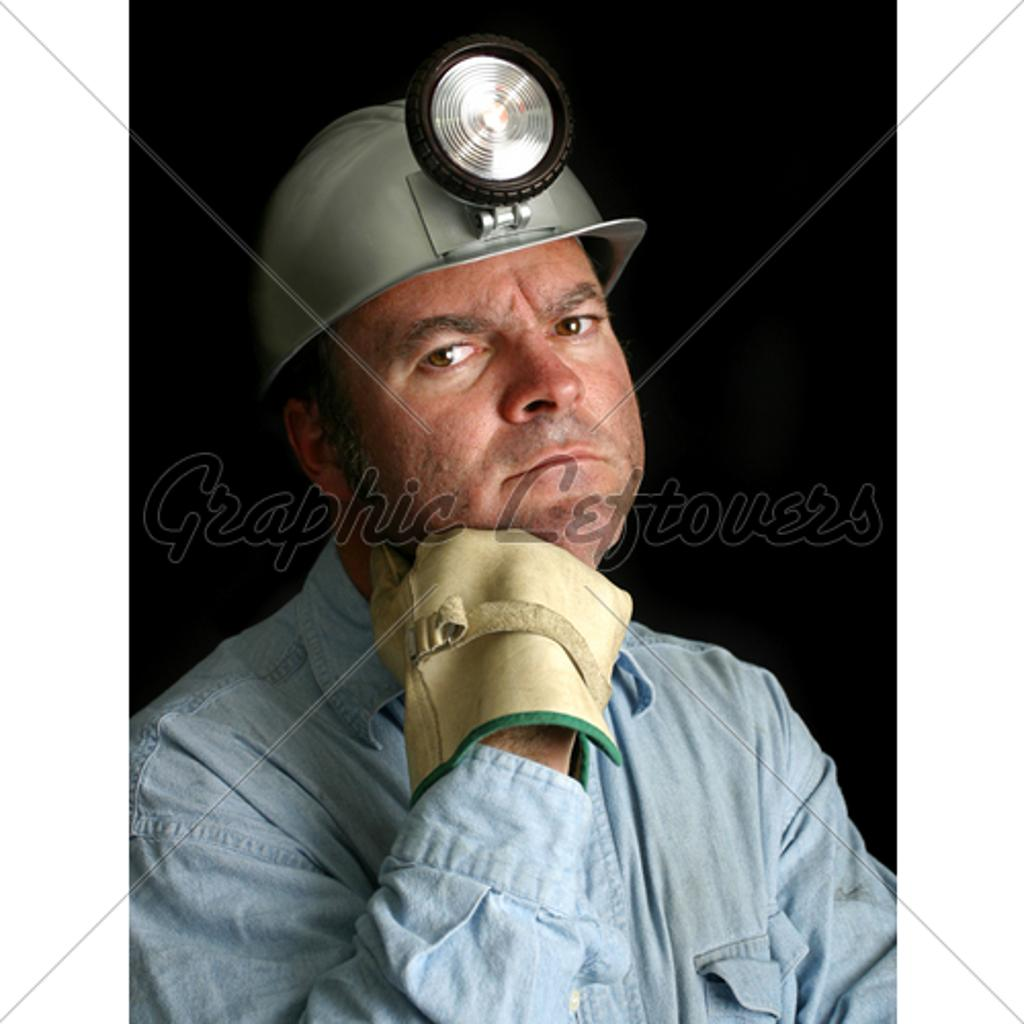face: (374, 192, 634, 524)
